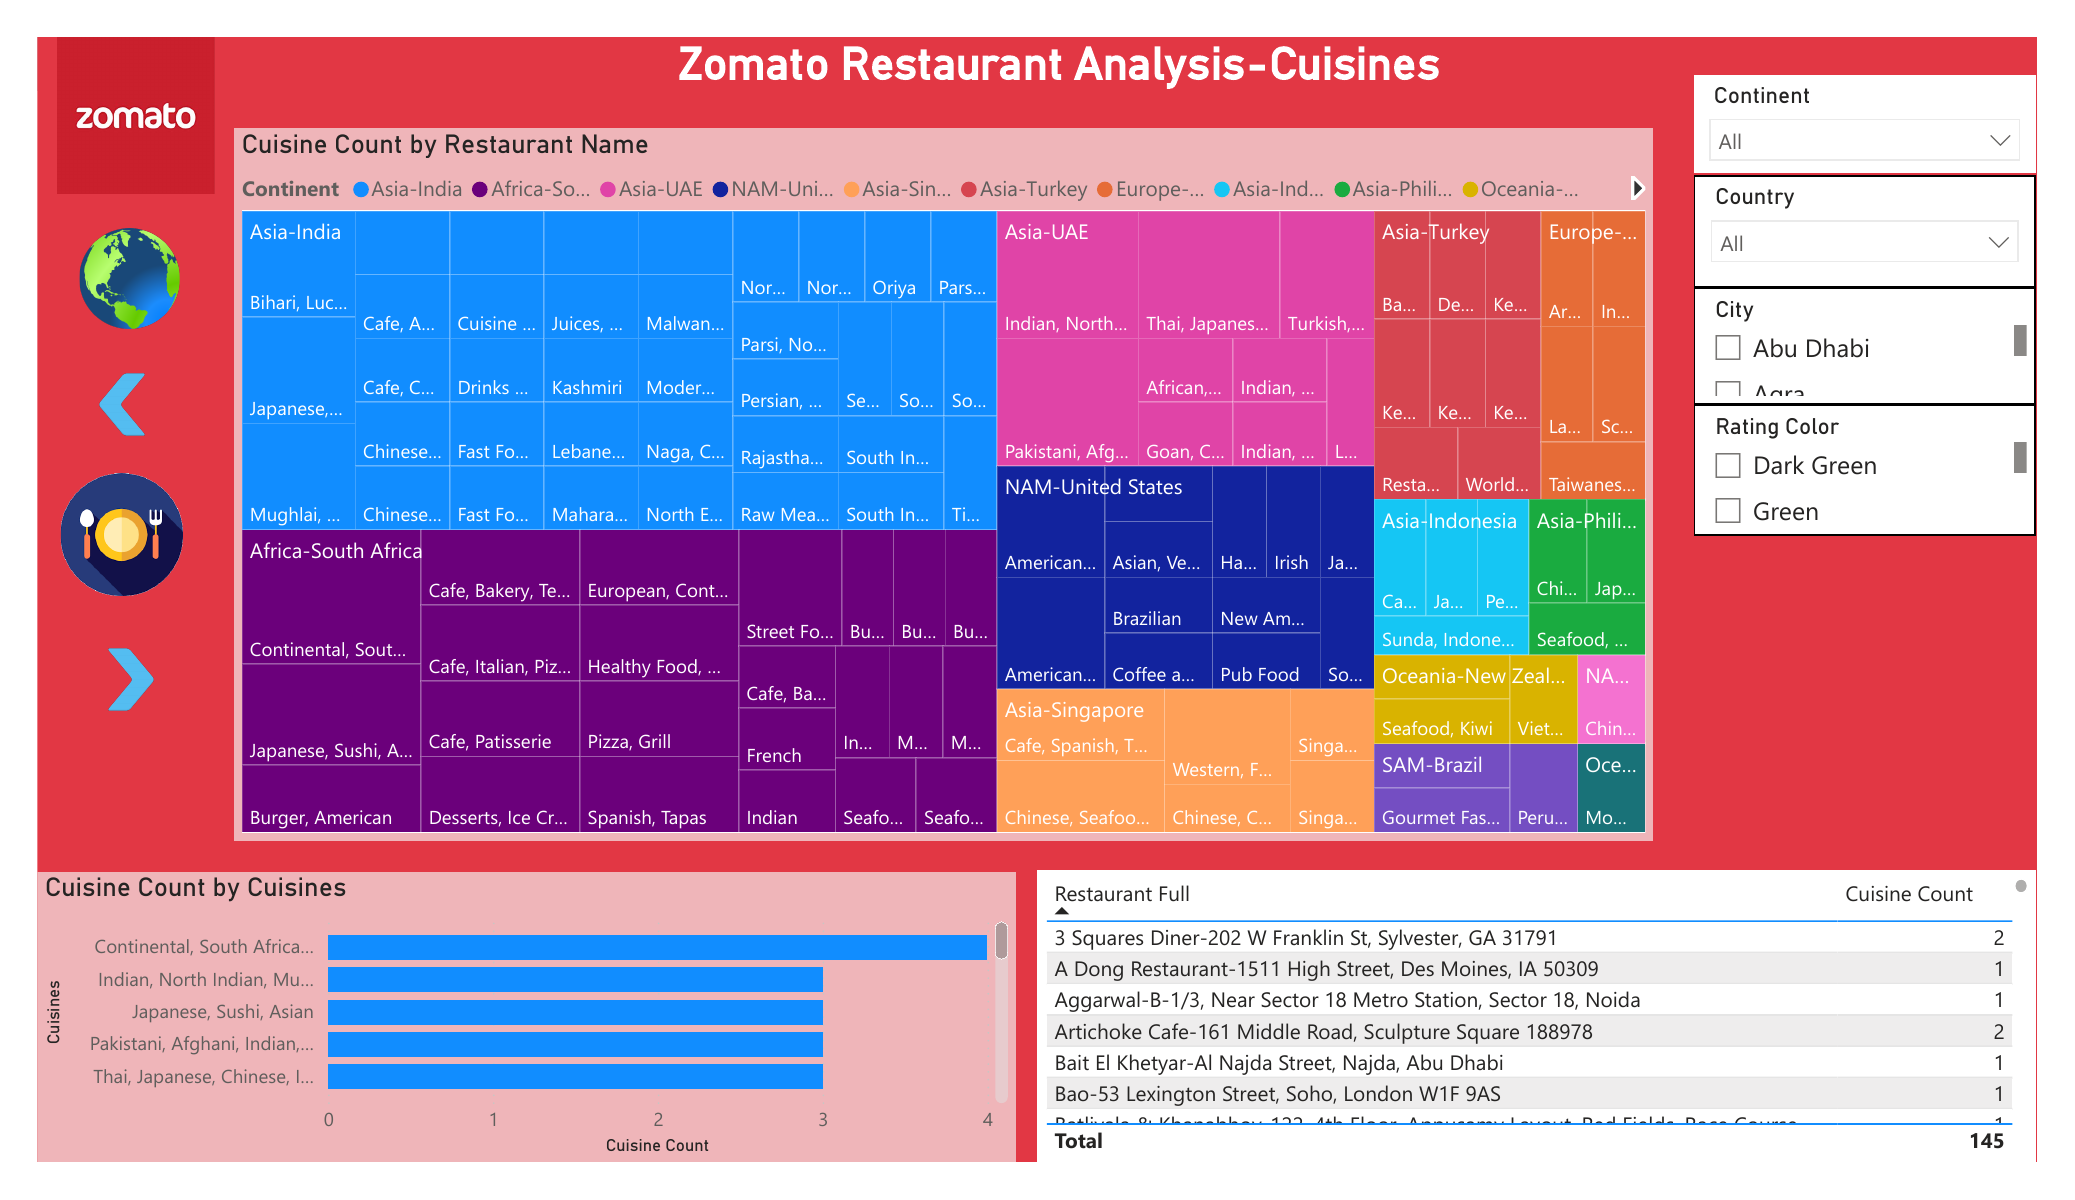

This screenshot's page, from the dashboard's own definition file:
{"tool":"powerbi","page":{"name":"Cuisines","canvas":[1280,720],"ordinal":3},"visuals":[{"type":"textbox","title":"Zomato Restaurant Analysis-Cuisines","box":[405,0,563.3,73.3],"z":0},{"type":"clusteredBarChart","fields":{"Category":["Fact_Restaurants.Cuisines"],"Y":["Fact_Restaurants.Cuisine Count"]},"box":[0,534,626,186],"z":1000},{"type":"tableEx","fields":{"Values":["Fact_Restaurants.Restaurant Full","Fact_Restaurants.Cuisine Count"]},"box":[640,533,639,187],"z":2000},{"type":"treemap","title":"Cuisine Count by Restaurant Name","fields":{"Group":["Dim_Country.Continent"],"Details":["Fact_Restaurants.Cuisines"],"Values":["Fact_Restaurants.Cuisine Count"]},"box":[126,58,908,456],"z":3000},{"type":"slicer","fields":{"Values":["Dim_Country.Continent"]},"box":[1060.3,23.5,219.1,63.2],"z":4000},{"type":"slicer","fields":{"Values":["Dim_Country.Country"]},"box":[1060.4,87.5,218.8,72.9],"z":5000},{"type":"slicer","fields":{"Values":["Fact_Restaurants.City"]},"box":[1060.4,160.4,218.8,75],"z":6000},{"type":"slicer","fields":{"Values":["Fact_Restaurants.Rating Color"]},"box":[1060.4,235.4,218.8,83.3],"z":7000},{"type":"image","box":[27.3,116.4,63.6,74.5],"z":8000},{"type":"image","box":[0,214.5,107.3,40],"z":9000},{"type":"image","box":[14.5,274.5,78.2,85.5],"z":10000},{"type":"image","box":[0,390.9,120,40],"z":11000},{"type":"image","box":[0,0,125.5,100],"z":12000}]}

Visuals, with their boxes on the page's 1280x720 design canvas (x1, y1, x2, y2). These are canvas units, not pixel positions in the 2075x1200 screenshot, which may show the page scaled, cropped or inside an application window:
"Zomato Restaurant Analysis-Cuisines" textbox: (405,0,968,73)
clusteredBarChart - Fact_Restaurants.Cuisines x Fact_Restaurants.Cuisine Count: (0,534,626,720)
tableEx - Fact_Restaurants.Restaurant Full x Fact_Restaurants.Cuisine Count: (640,533,1279,720)
"Cuisine Count by Restaurant Name" treemap: (126,58,1034,514)
slicer - Dim_Country.Continent: (1060,24,1279,87)
slicer - Dim_Country.Country: (1060,88,1279,160)
slicer - Fact_Restaurants.City: (1060,160,1279,235)
slicer - Fact_Restaurants.Rating Color: (1060,235,1279,319)
image: (27,116,91,191)
image: (0,214,107,254)
image: (14,274,93,360)
image: (0,391,120,431)
image: (0,0,126,100)
